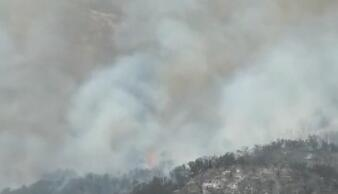yanwu: (0, 1, 337, 192)
